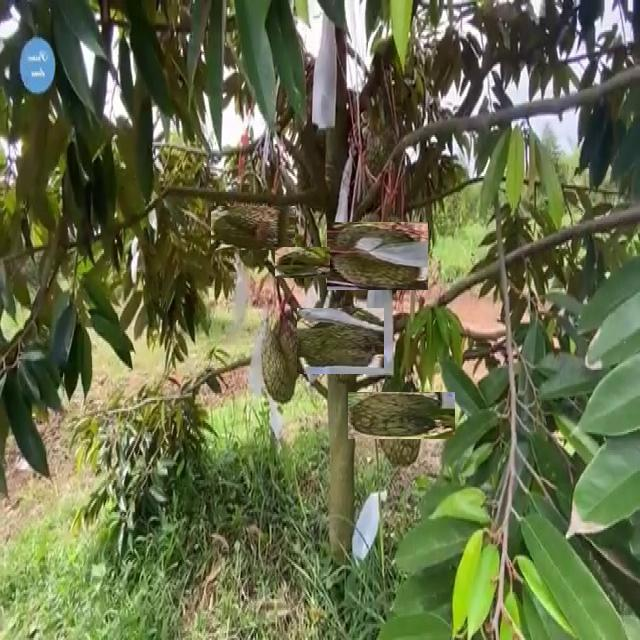durian: (336, 214, 420, 299), (362, 377, 440, 454), (302, 302, 379, 379), (260, 306, 307, 408), (220, 196, 285, 260), (280, 241, 324, 284)
